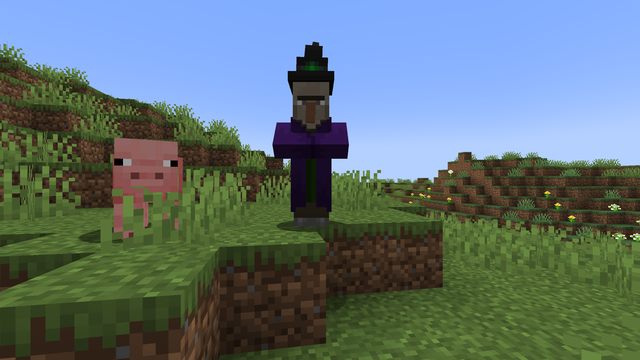cochons: (83, 152, 200, 238)
sorcieres: (288, 72, 337, 229)
